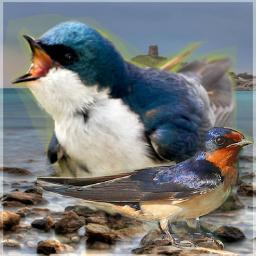Swallow: (4, 14, 237, 233), (37, 127, 254, 250)
